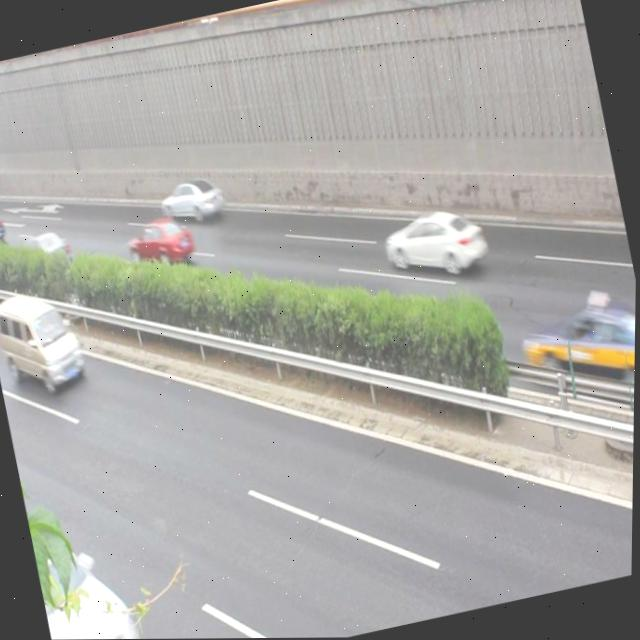car: (30, 507, 151, 640), (522, 290, 637, 404), (380, 199, 491, 287), (125, 210, 198, 277), (157, 172, 228, 233), (13, 228, 75, 283)
truck: (0, 287, 90, 395)
